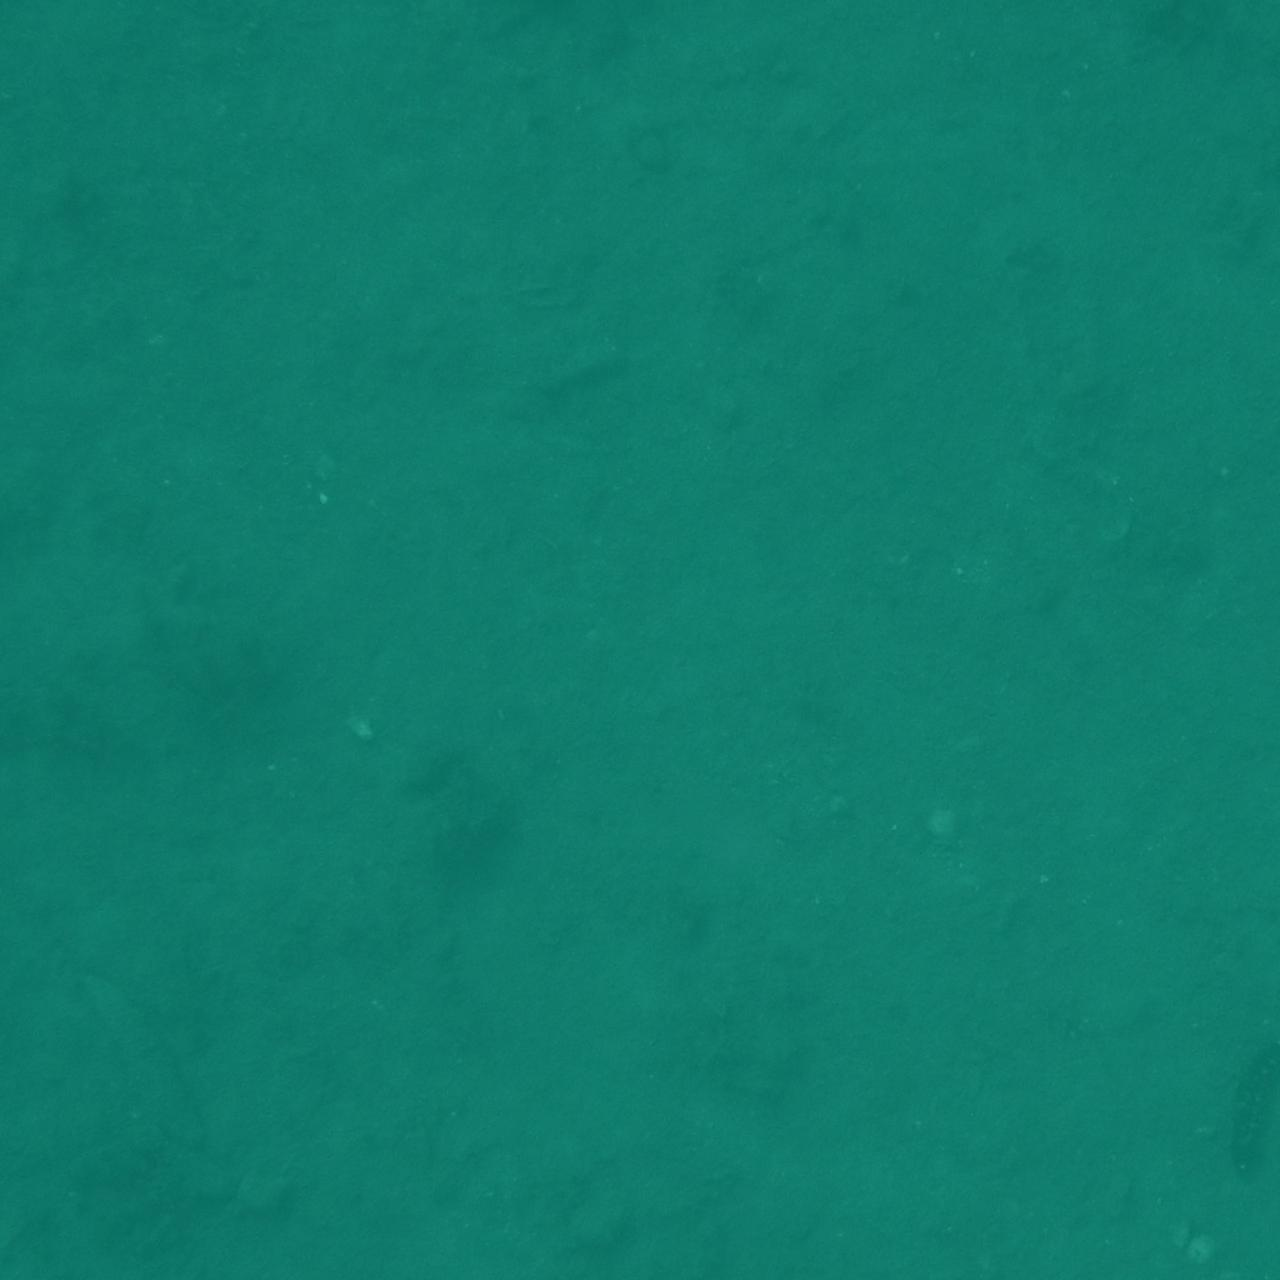Holothuria tubulosa: (0, 512, 111, 754), (1164, 765, 1280, 979), (604, 1191, 835, 1280), (674, 1159, 838, 1280), (1191, 6, 1280, 216), (1080, 0, 1280, 91), (1020, 1167, 1175, 1280), (1098, 511, 1280, 602), (632, 0, 824, 84), (0, 756, 105, 900), (1164, 0, 1280, 125), (0, 256, 56, 501), (0, 1173, 123, 1280), (0, 0, 98, 127), (0, 1175, 116, 1280), (0, 0, 142, 83), (72, 1198, 212, 1280), (1217, 1001, 1280, 1183), (1169, 1021, 1280, 1124), (395, 1224, 598, 1280), (0, 0, 125, 84), (0, 0, 86, 121), (1178, 0, 1280, 101), (1162, 326, 1280, 401), (0, 0, 95, 75)
Rifiuto: (0, 1182, 120, 1280)
